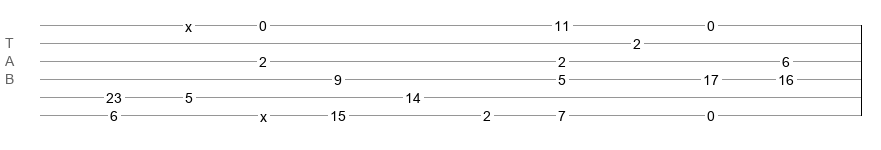0: (259, 18, 267, 28), (707, 108, 715, 118), (707, 18, 715, 28)
11: (554, 18, 570, 28)
14: (405, 90, 421, 100)
15: (330, 108, 346, 118)
16: (778, 72, 794, 82)
17: (703, 72, 719, 82)
2: (259, 54, 267, 64), (483, 108, 491, 118), (558, 54, 566, 64), (633, 36, 641, 46)
23: (106, 90, 122, 100)
5: (185, 90, 193, 100), (558, 72, 566, 82)
6: (110, 108, 118, 118), (782, 54, 790, 64)
7: (558, 108, 566, 118)
9: (334, 72, 342, 82)
x: (185, 19, 192, 27), (260, 109, 267, 117)
